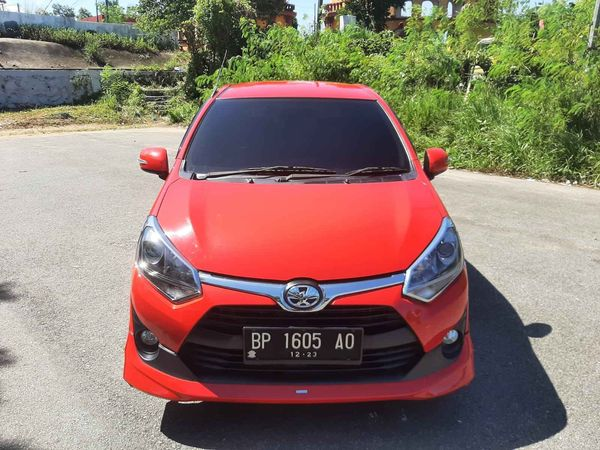plate: (243, 322, 361, 363)
